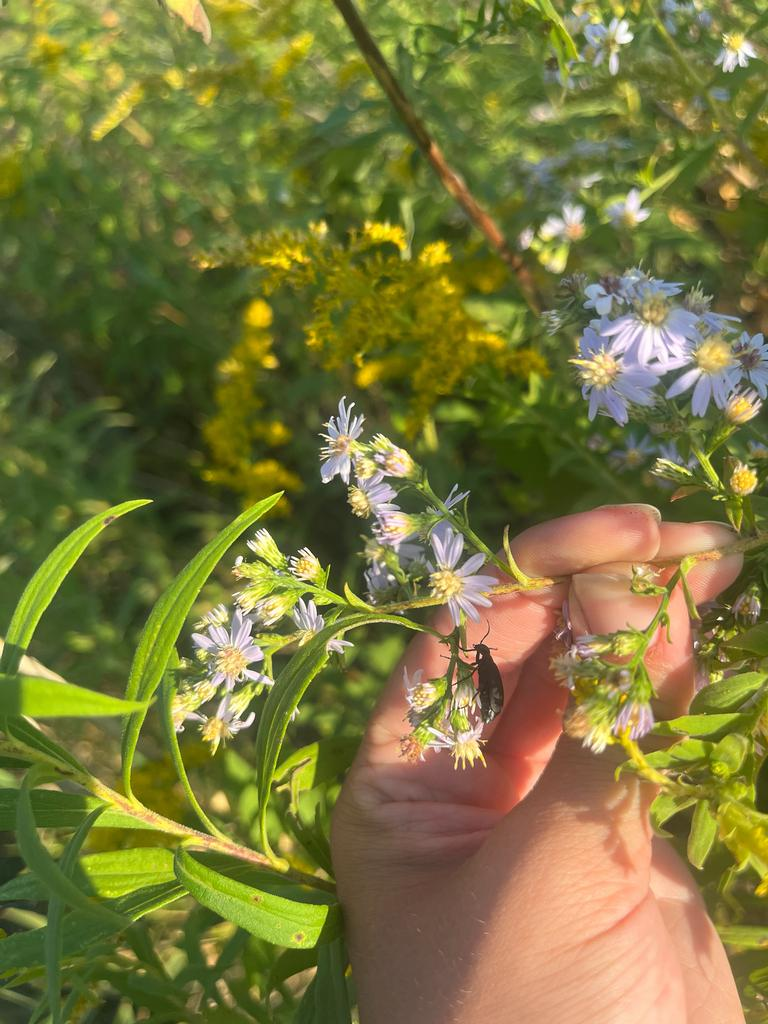blister_beetle: (425, 606, 544, 736)
